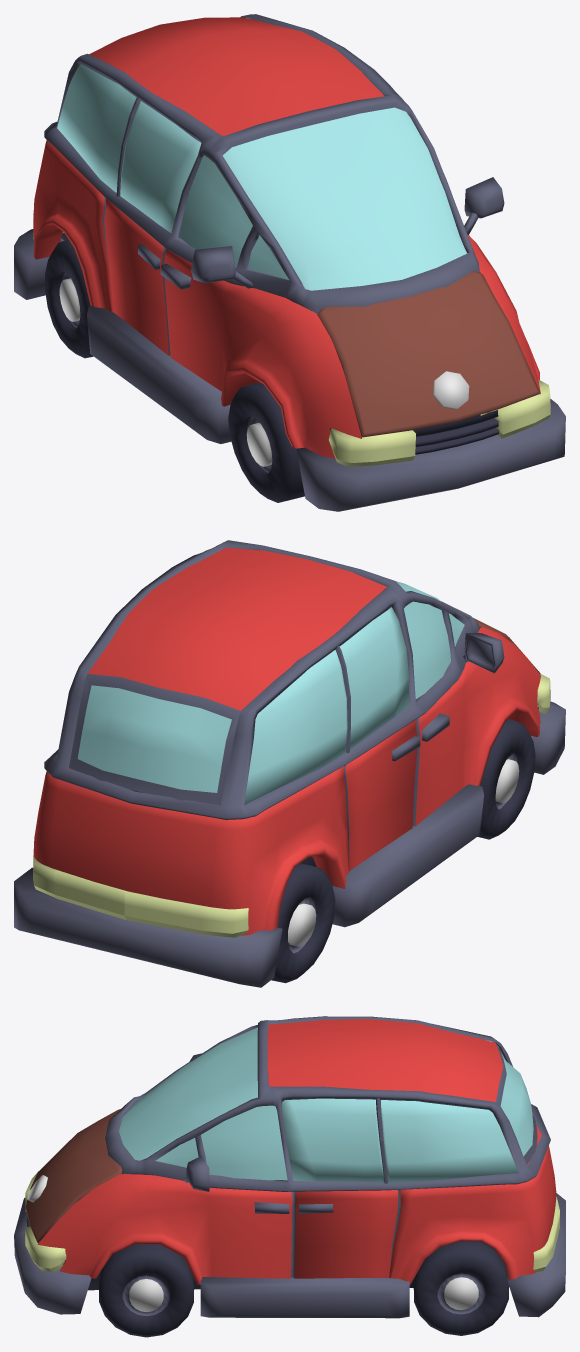
Rendered from Car.glb.
The picture shows the model from 3 angles, top to bottom: view 1: azimuth 30°, elevation 25°; view 2: azimuth 150°, elevation 25°; view 3: azimuth 270°, elevation 25°; orthographic projection. The views are drawn at different scales.
Parts seen in each view (by area): view 1: Car; view 2: Car; view 3: Car.
Boxes of the visible parts, x1=… form: Car: x1=14, y1=14, x2=565, y2=511; Car: x1=14, y1=540, x2=565, y2=987; Car: x1=14, y1=1016, x2=565, y2=1337.
Size of the model in its own units: 3.89 by 3.84 by 7.61.
